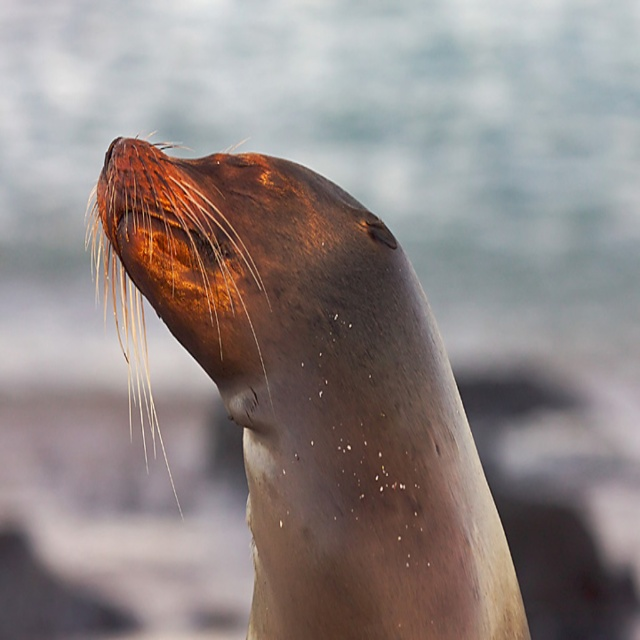Harbor seal: (119, 123, 516, 636)
